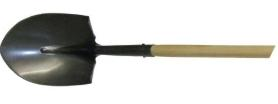PELLE: (0, 12, 278, 101)
